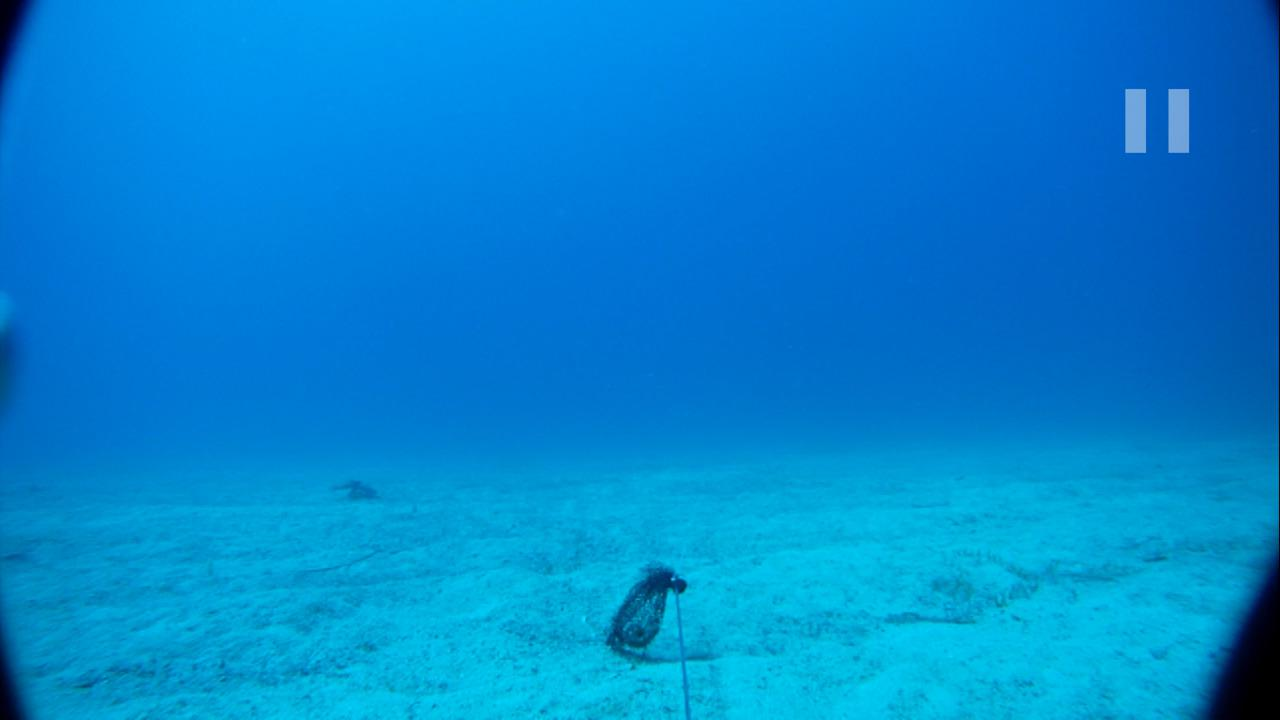dactylopterus: (321, 475, 379, 507)
